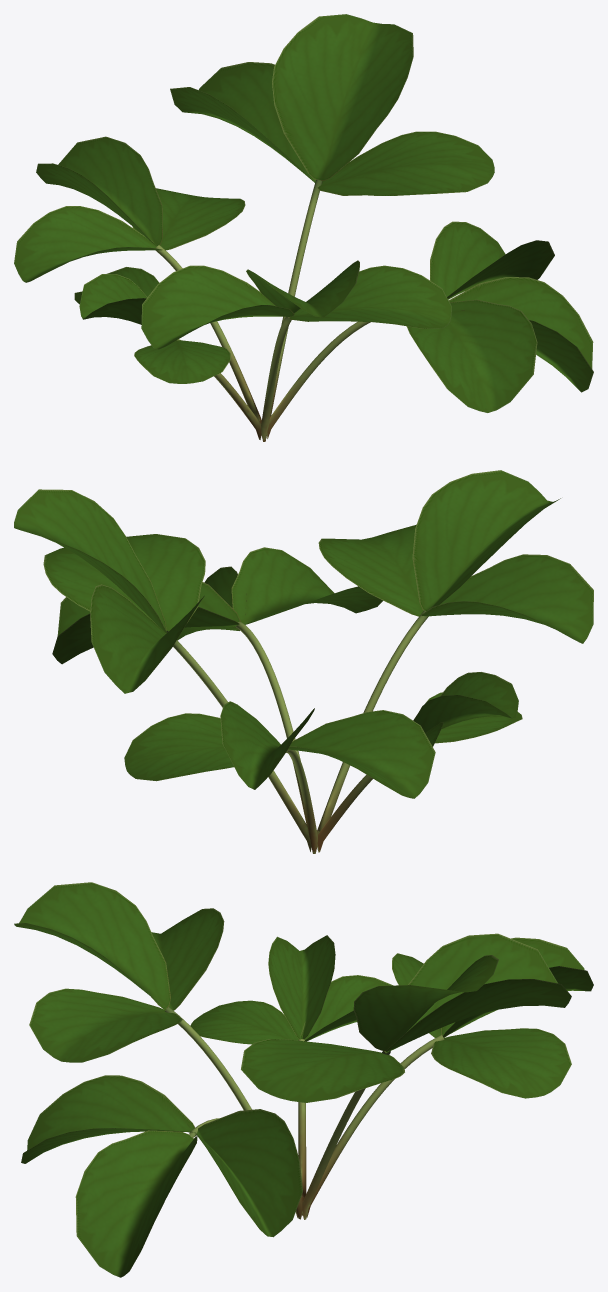
The model's file is strawberry_leaf.obj.
The picture shows the model from 3 angles, top to bottom: view 1: azimuth 30°, elevation 25°; view 2: azimuth 150°, elevation 25°; view 3: azimuth 270°, elevation 25°; orthographic projection. The views are drawn at different scales.
Visible parts, largest first — view 1: strawberry_leaf; view 2: strawberry_leaf; view 3: strawberry_leaf.
Part boxes in pixels (x1=…): strawberry_leaf: x1=14, y1=14, x2=593, y2=441; strawberry_leaf: x1=14, y1=470, x2=593, y2=853; strawberry_leaf: x1=14, y1=882, x2=593, y2=1277.
Bounding box in the file's own units: 12.32 × 8.49 × 13.26.
1 material, 1 textured.
